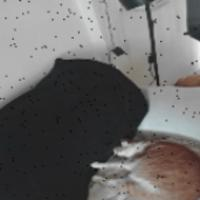asleep: (89, 137, 200, 200)
